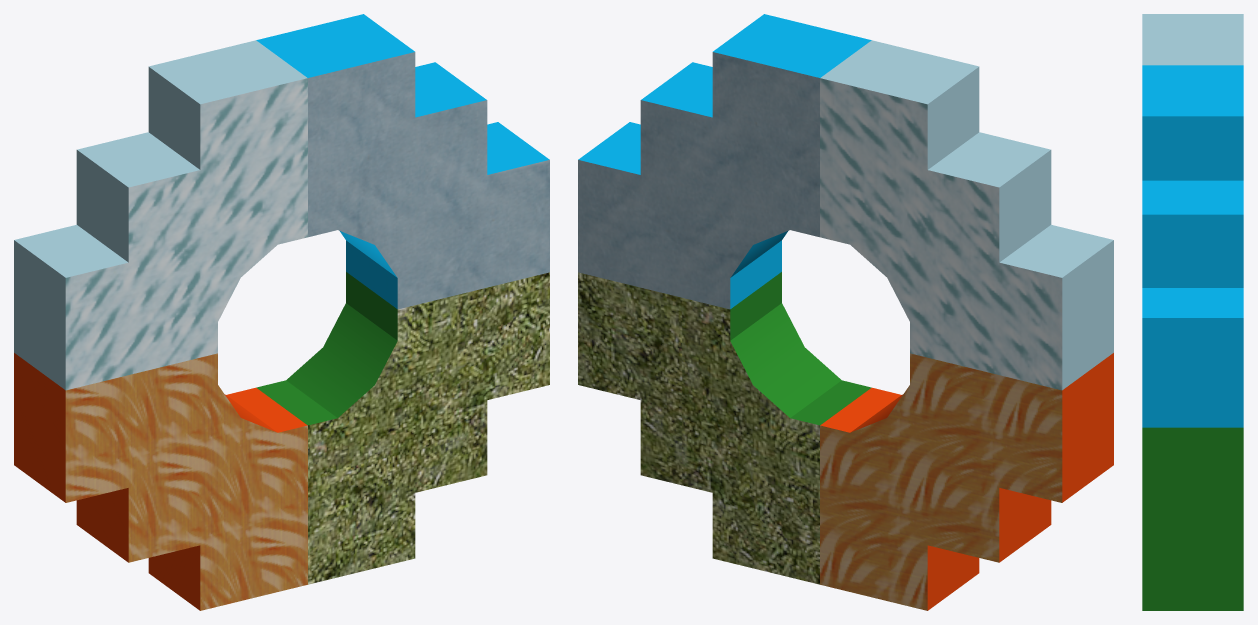
The model's file is tawaT.fbx.
The picture shows the model from 3 angles, left to right: view 1: azimuth 30°, elevation 25°; view 2: azimuth 150°, elevation 25°; view 3: azimuth 270°, elevation 25°; orthographic projection. The views are drawn at different scales.
Visible parts, largest first — view 1: Tawa_Aire, Tawa_Fuego, Tawa_Agua, Tawa_Tierra; view 2: Tawa_Aire, Tawa_Fuego, Tawa_Agua, Tawa_Tierra; view 3: Tawa_Agua, Tawa_Tierra, Tawa_Aire.
Part boxes in pixels (<box>): Tawa_Aire: <box>14,40,307,390</box>; Tawa_Fuego: <box>14,353,307,610</box>; Tawa_Agua: <box>256,14,549,309</box>; Tawa_Tierra: <box>256,272,549,584</box>; Tawa_Aire: <box>820,40,1113,390</box>; Tawa_Fuego: <box>820,353,1113,610</box>; Tawa_Agua: <box>578,14,871,309</box>; Tawa_Tierra: <box>578,272,871,584</box>; Tawa_Agua: <box>1142,65,1243,427</box>; Tawa_Tierra: <box>1142,427,1243,610</box>; Tawa_Aire: <box>1142,14,1243,65</box>.
Bounding box in the file's own units: 270 × 270 × 50.
